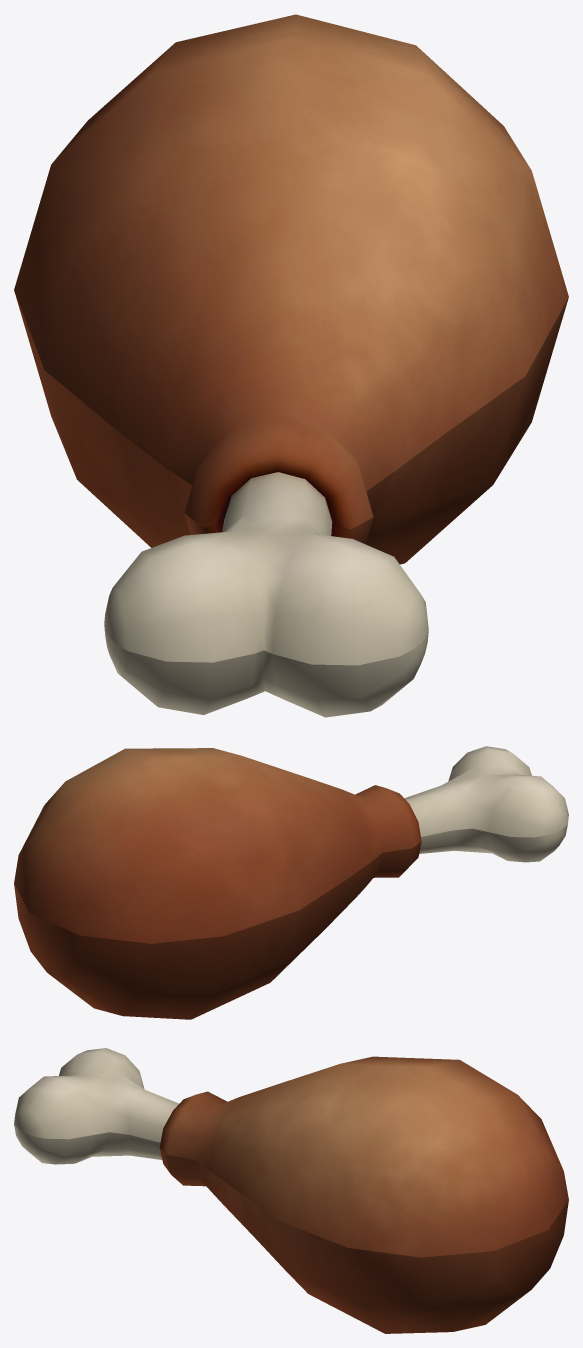
The model's file is Chicken Leg.fbx.
3 views of the same model, one above another, from view 1: azimuth 30°, elevation 25°; view 2: azimuth 150°, elevation 25°; view 3: azimuth 270°, elevation 25° (orthographic). The views are drawn at different scales.
Visible parts, largest first — view 1: ChickenLeg_1; view 2: ChickenLeg_1; view 3: ChickenLeg_1.
Part boxes in pixels (x1,y1,x2,y2): ChickenLeg_1: (14,14,568,717); ChickenLeg_1: (14,746,568,1019); ChickenLeg_1: (14,1048,568,1333).
Size of the model in its own units: 44.15 by 28.93 by 56.5.
1 material, 1 textured.
